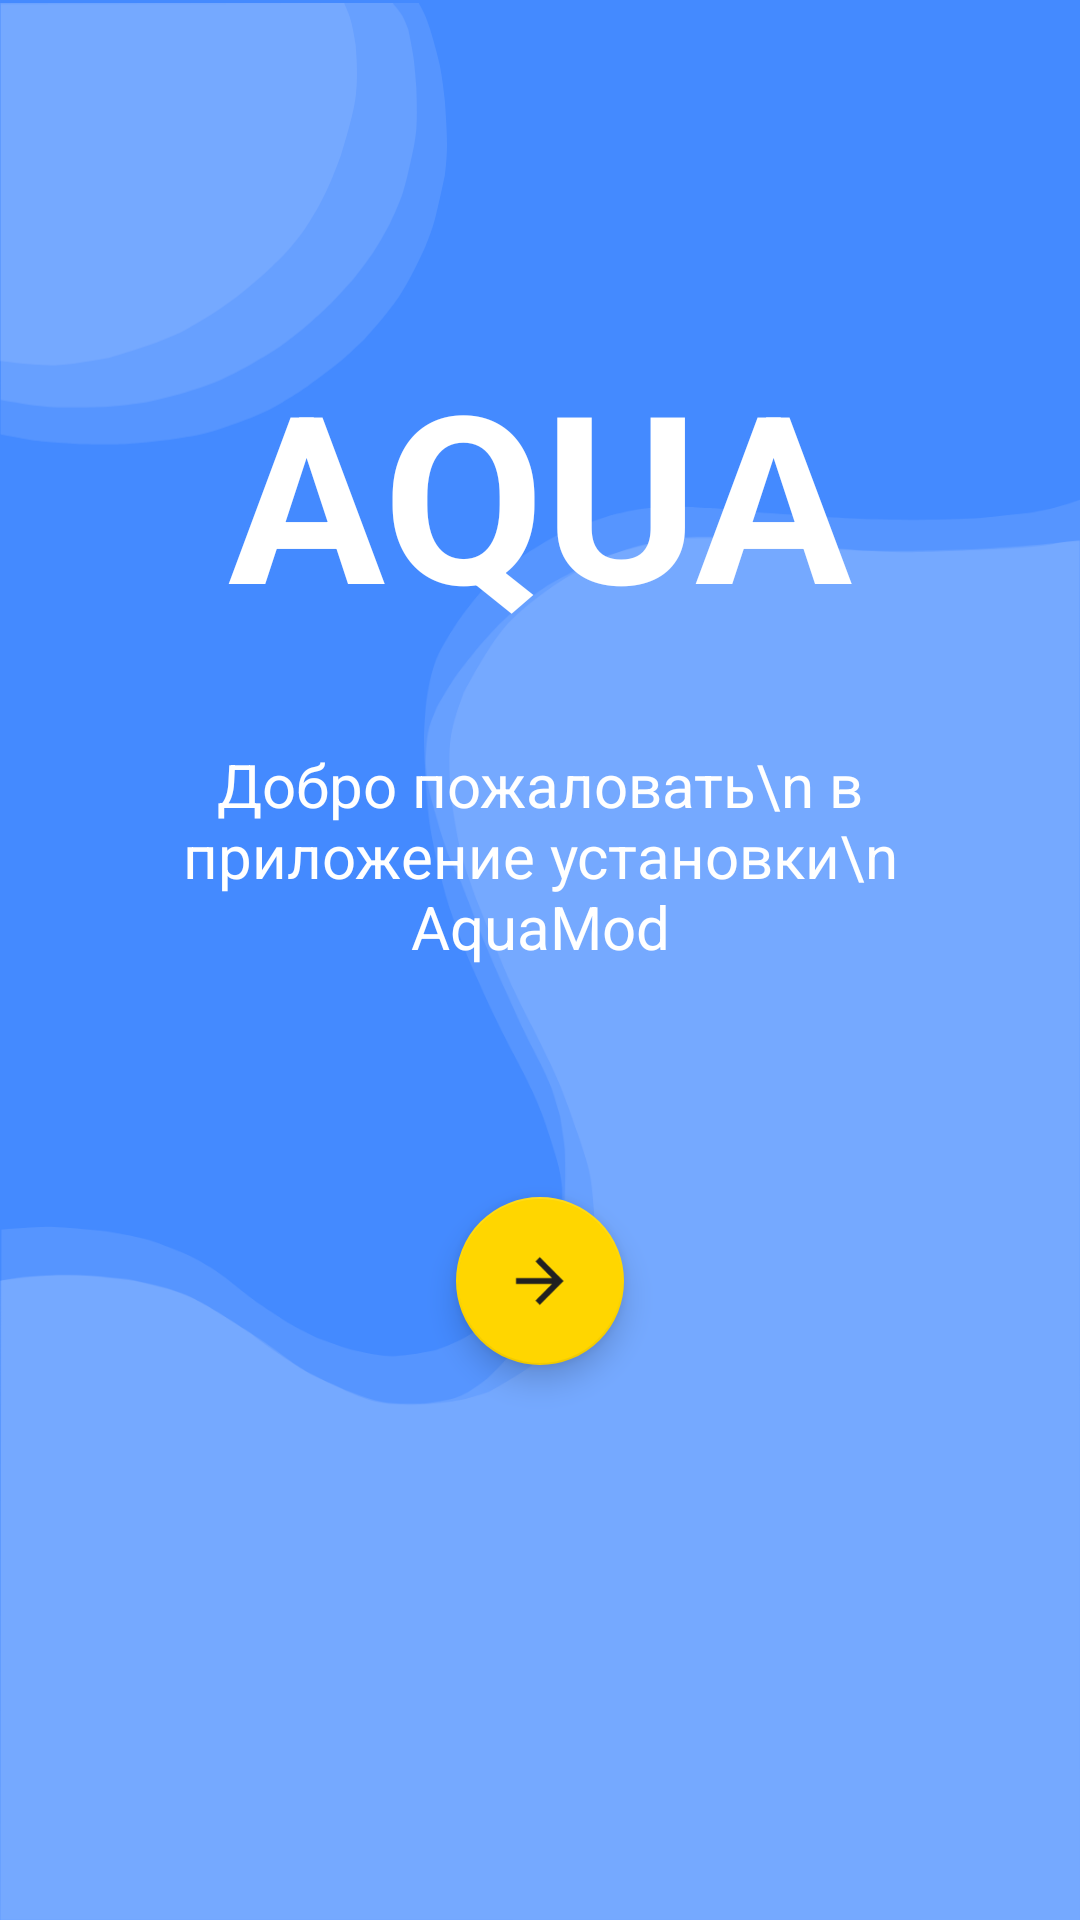

Where to tap for icons on this 1080 x 1920 app screen, as point (x, y):
arrow right: point (540, 1281)
